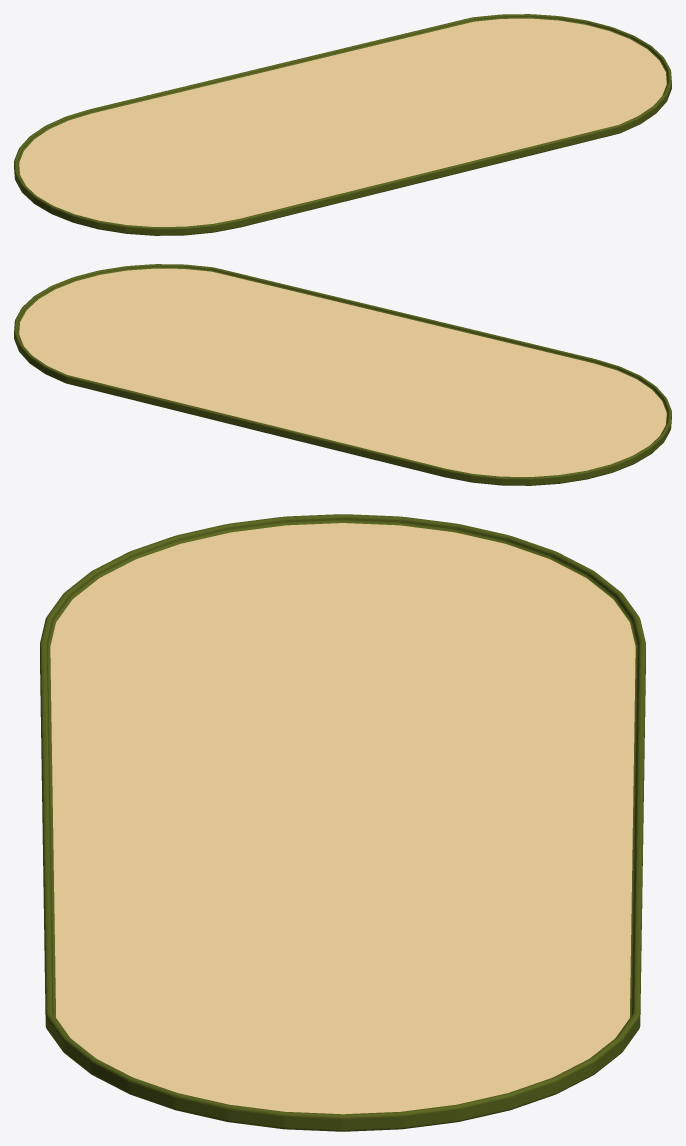
Rendered from Floor.fbx.
3 renders of one model, top to bottom at view 1: azimuth 30°, elevation 25°; view 2: azimuth 150°, elevation 25°; view 3: azimuth 270°, elevation 25°, orthographic. The views are drawn at different scales.
Parts seen in each view (by area): view 1: Floor; view 2: Floor; view 3: Floor.
Part boxes in pixels (x1=…): Floor: x1=14, y1=14, x2=671, y2=235; Floor: x1=14, y1=264, x2=671, y2=485; Floor: x1=40, y1=514, x2=645, y2=1131.
Size of the model in its own units: 4105 by 1744 by 52.15.
